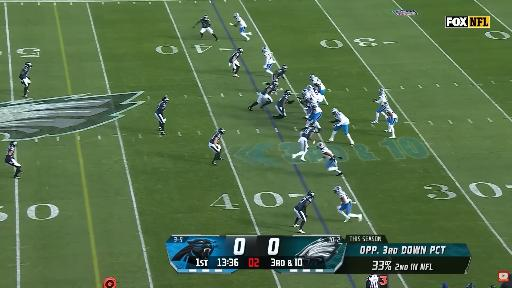Helmet: (307, 122, 317, 129), (24, 61, 32, 68), (307, 190, 315, 197), (9, 142, 19, 147), (233, 13, 240, 19), (163, 96, 169, 103), (283, 65, 289, 72), (218, 128, 225, 134), (334, 187, 341, 193), (317, 143, 324, 149), (332, 108, 338, 115), (273, 81, 279, 87), (379, 88, 385, 94), (285, 90, 292, 95), (238, 48, 243, 54), (310, 75, 315, 81), (382, 103, 388, 108), (203, 15, 208, 20), (262, 47, 267, 52), (307, 85, 312, 89), (302, 90, 308, 93)
Jersey: (296, 196, 312, 211), (337, 191, 351, 205), (311, 77, 326, 90), (322, 147, 335, 160), (335, 112, 349, 124), (261, 84, 277, 94), (209, 132, 222, 144), (300, 127, 313, 139), (310, 89, 323, 101), (276, 95, 288, 107), (6, 146, 15, 162), (273, 68, 285, 80), (376, 93, 387, 105), (385, 107, 397, 118), (155, 102, 166, 114), (235, 16, 247, 27), (229, 51, 240, 63), (19, 66, 29, 79), (306, 93, 318, 103), (264, 51, 273, 64), (200, 18, 210, 28), (311, 105, 322, 114)
Player: (334, 186, 362, 222), (328, 108, 354, 145), (294, 191, 314, 233), (248, 82, 278, 110), (292, 124, 314, 161), (318, 143, 342, 175), (193, 15, 218, 41), (6, 142, 23, 178), (273, 90, 294, 119), (372, 88, 389, 123), (209, 128, 225, 165), (230, 13, 251, 41), (154, 96, 169, 135), (310, 75, 328, 105), (306, 102, 322, 132), (19, 62, 32, 97), (229, 48, 243, 77), (385, 107, 397, 138), (262, 47, 275, 75), (307, 86, 326, 105), (272, 65, 287, 81), (297, 90, 311, 106)
